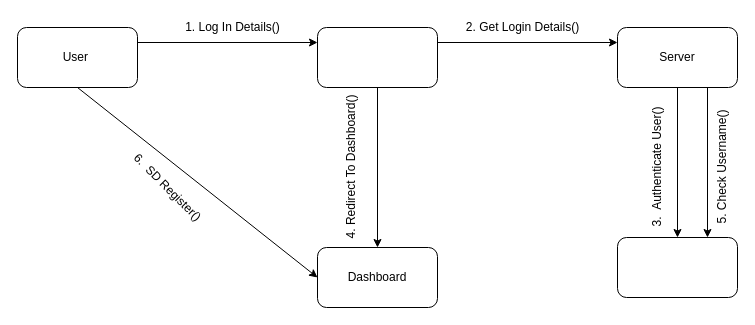
Some shapes in this 755 by 325 pixel diagram are drawn without their labels. The shapes that lost their labels are listed below. From the top down, each one's centre as x and y in pixels, then its label:
point 377,57: Log in
point 677,267: Database
